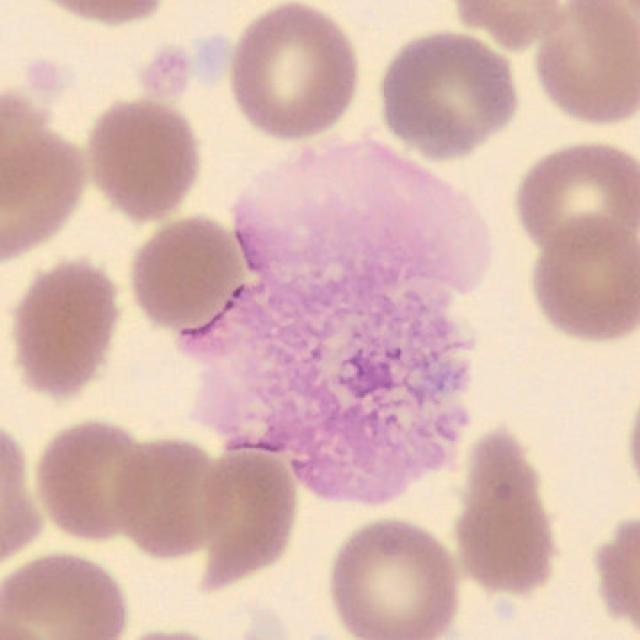Artefato: (178, 137, 492, 505)
